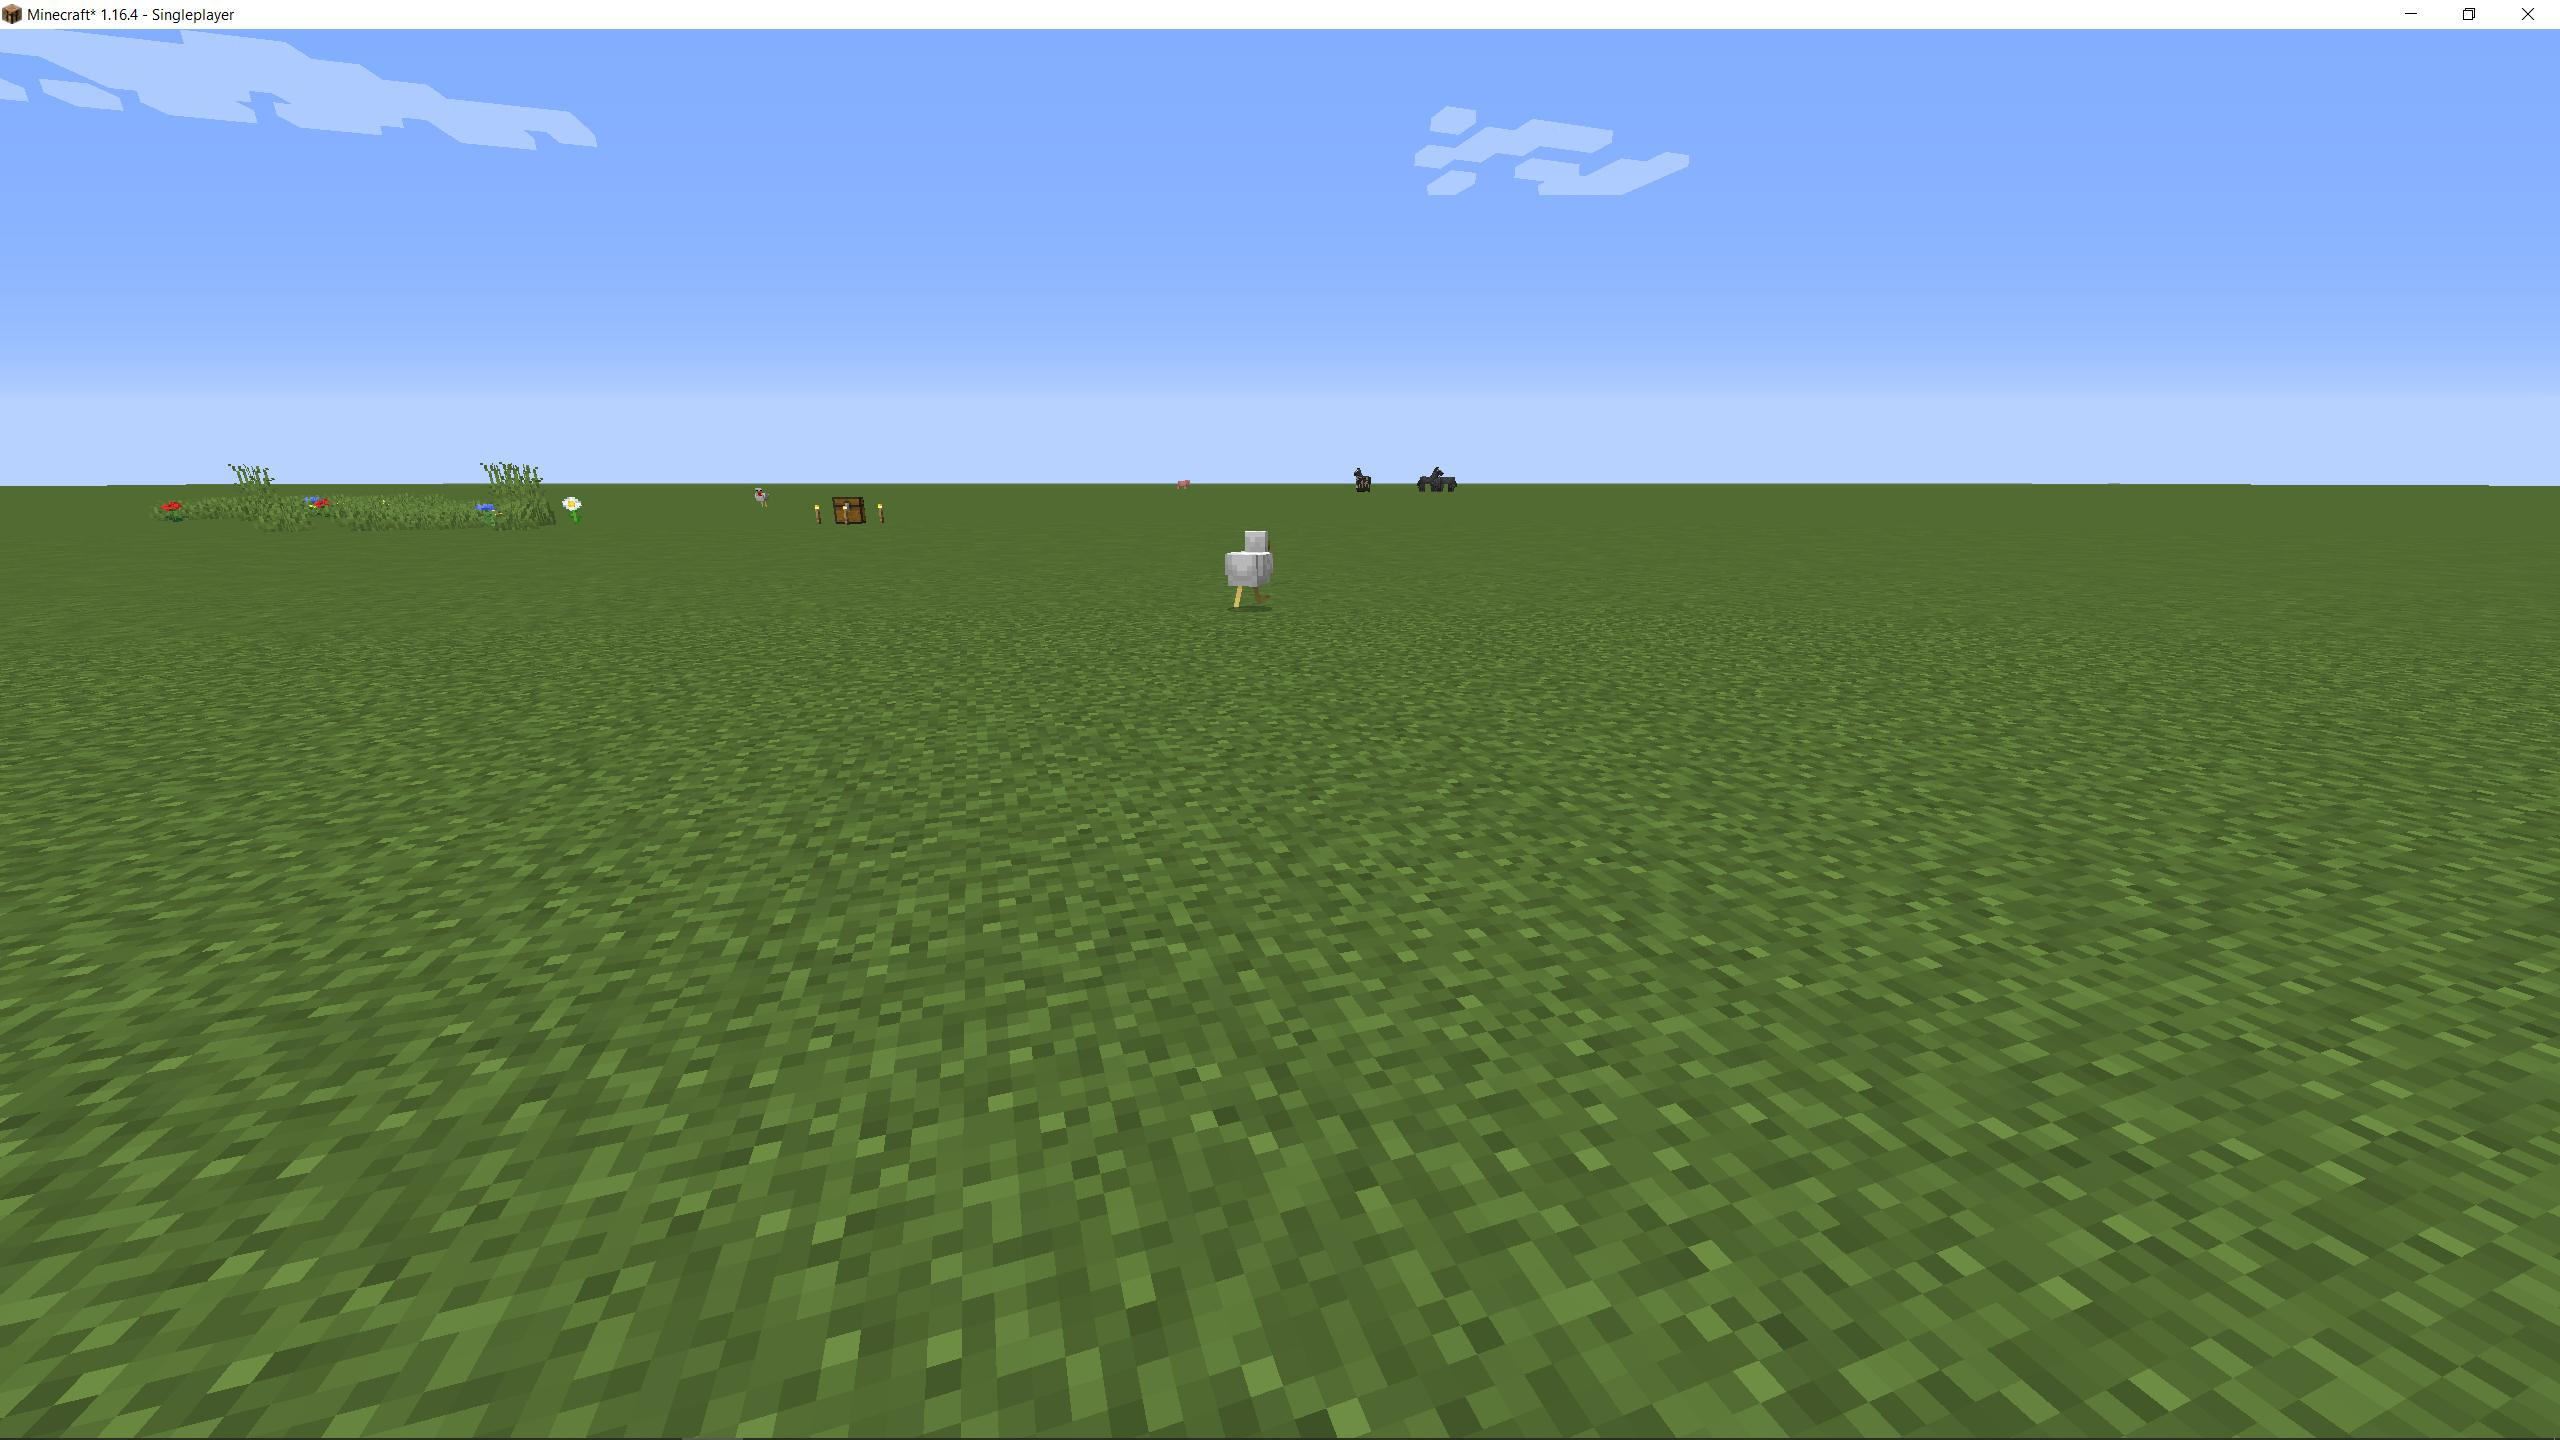chicken: (1220, 527, 1280, 615)
